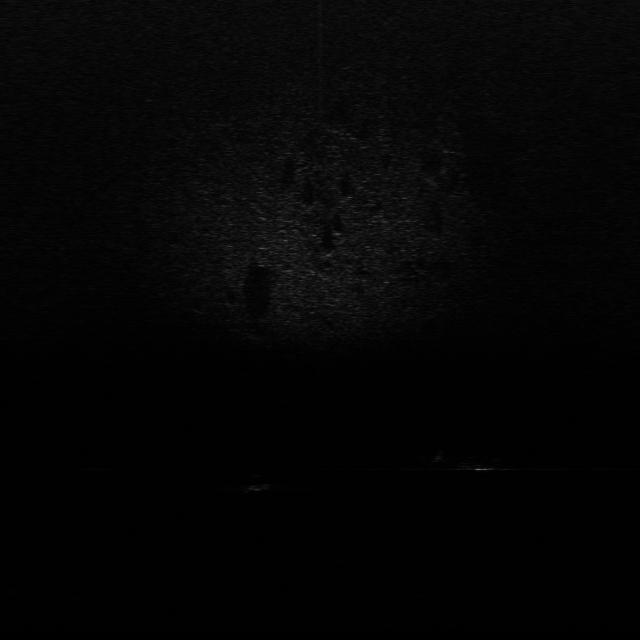ball: (241, 472, 273, 494)
human body: (433, 443, 518, 476)
